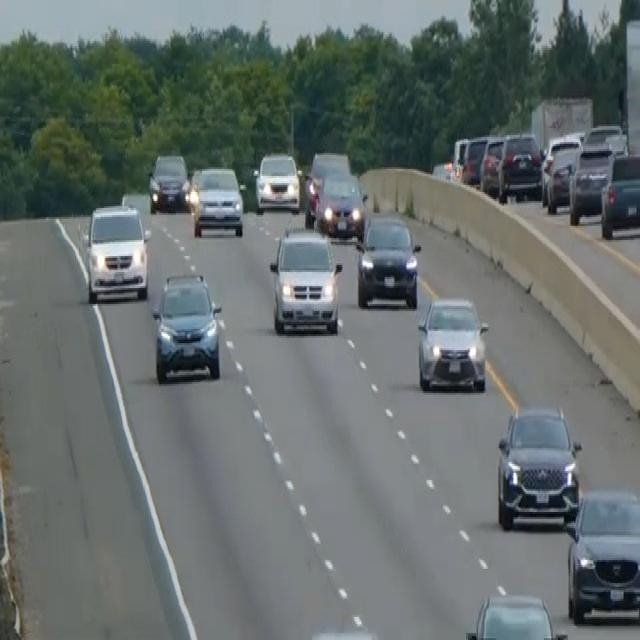car: (495, 402, 582, 530), (563, 485, 639, 624), (151, 268, 223, 384), (416, 293, 489, 393), (355, 212, 421, 310), (463, 590, 569, 638), (189, 164, 244, 236), (568, 139, 614, 224), (314, 169, 367, 240), (599, 148, 639, 238), (303, 148, 350, 224), (497, 130, 543, 202), (253, 150, 300, 213), (147, 151, 189, 212), (544, 142, 579, 212), (478, 134, 505, 196), (583, 121, 627, 155), (461, 133, 489, 185), (299, 626, 384, 638), (451, 135, 469, 181)
lorry: (622, 14, 639, 158)
minivan: (268, 222, 343, 336), (80, 197, 151, 304)
